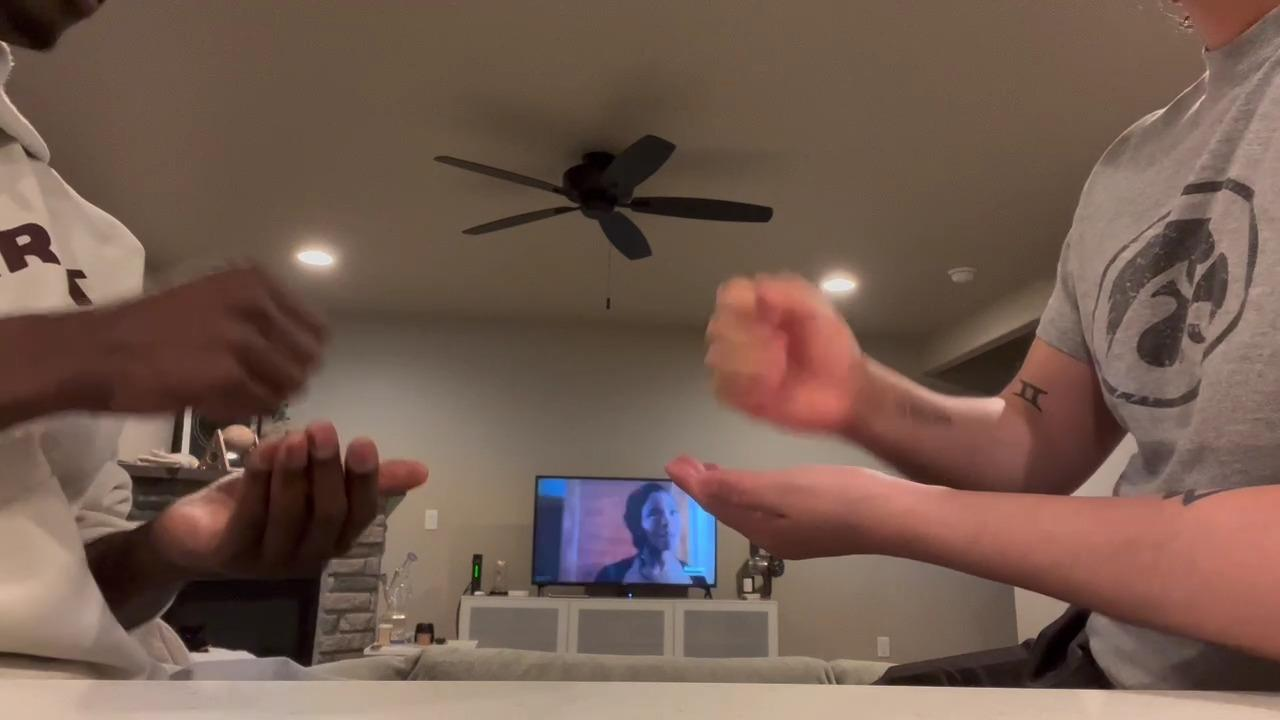Rock: (98, 259, 329, 426), (703, 269, 875, 434)
